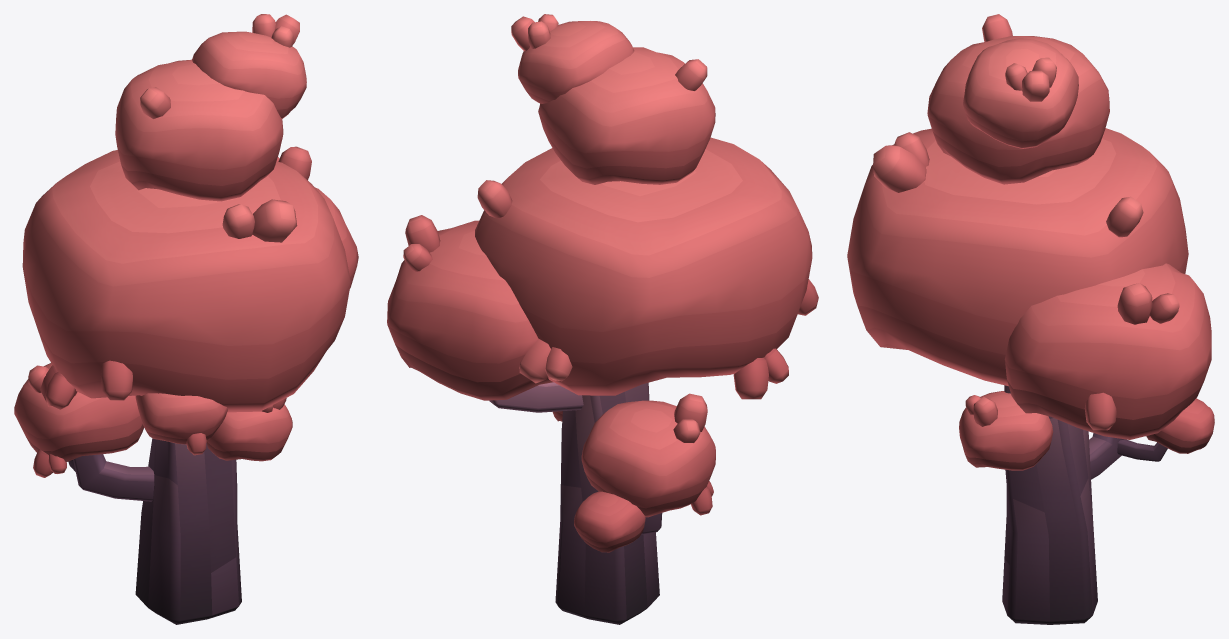
File: grassland_tree_col3_8.fbx
3 views of the same model, side by side, from view 1: azimuth 30°, elevation 25°; view 2: azimuth 150°, elevation 25°; view 3: azimuth 270°, elevation 25° (orthographic). The views are drawn at different scales.
Parts seen in each view (by area): view 1: grassland_tree_col3_8; view 2: grassland_tree_col3_8; view 3: grassland_tree_col3_8.
Boxes of the visible parts, x1,y1,x2,y2 form: grassland_tree_col3_8: (14, 14, 358, 624); grassland_tree_col3_8: (387, 14, 818, 624); grassland_tree_col3_8: (847, 14, 1214, 624).
Bounding box in the file's own units: 945 × 1486 × 845.
